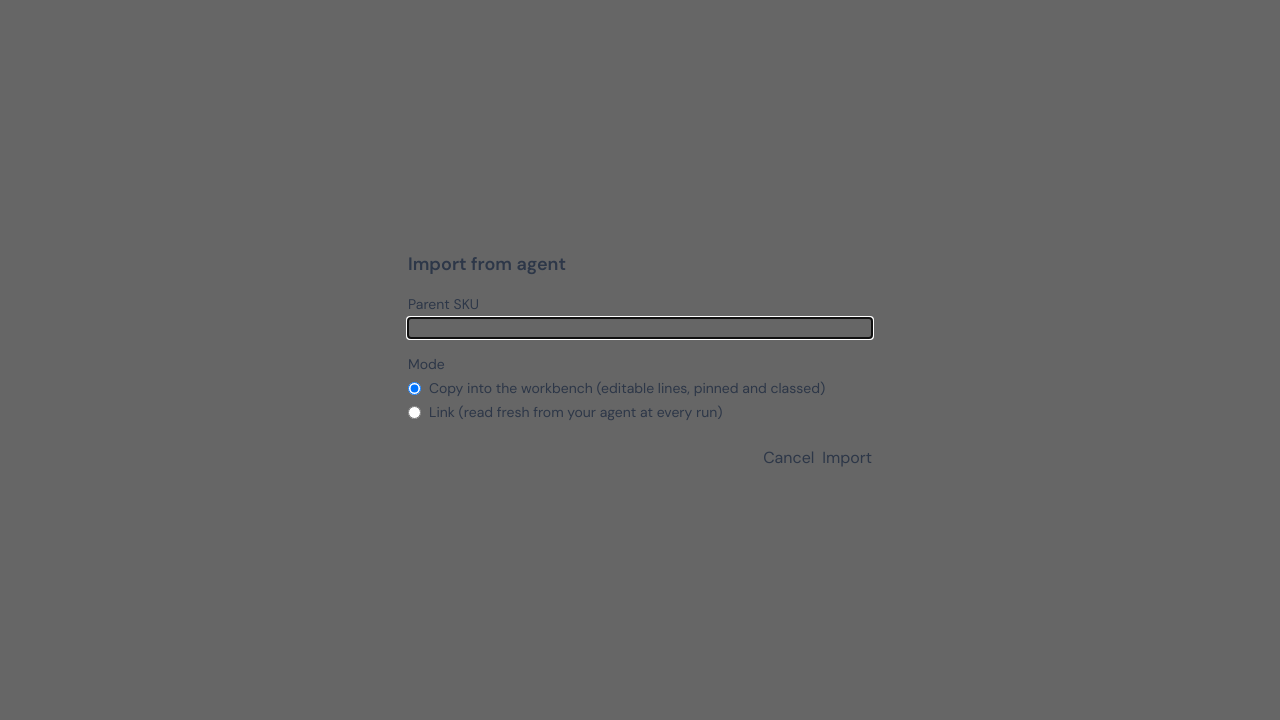
it: ImportAgentDialog › says so when the agent is unreachable, and reports nothing created (spec §7.5, §10)
Type "UNLISTED-SKU-9" into the field labelled "Parent SKU" at (640, 328), box [408,318,872,338]
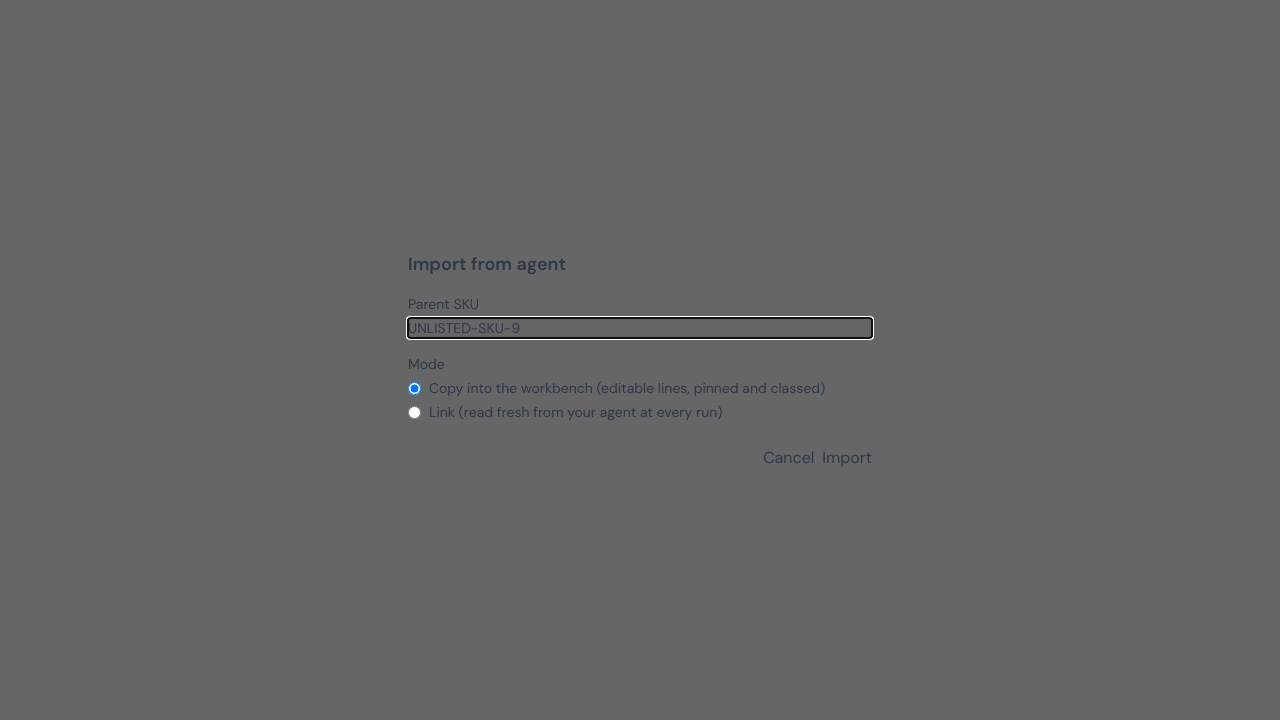
Click the radio button labelled "Link (read fresh from your agent at every run)" at (414, 412), box [408,406,421,418]
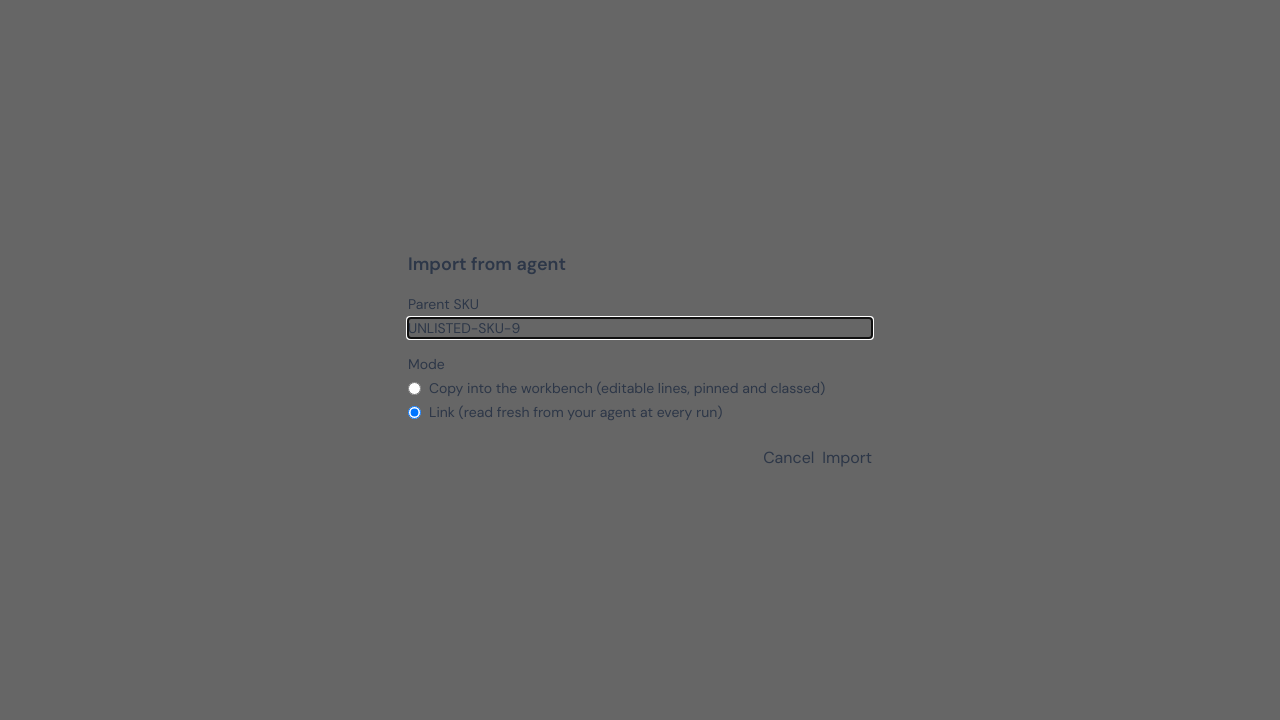
Click the button "Import" at (847, 458), box [822,446,872,470]
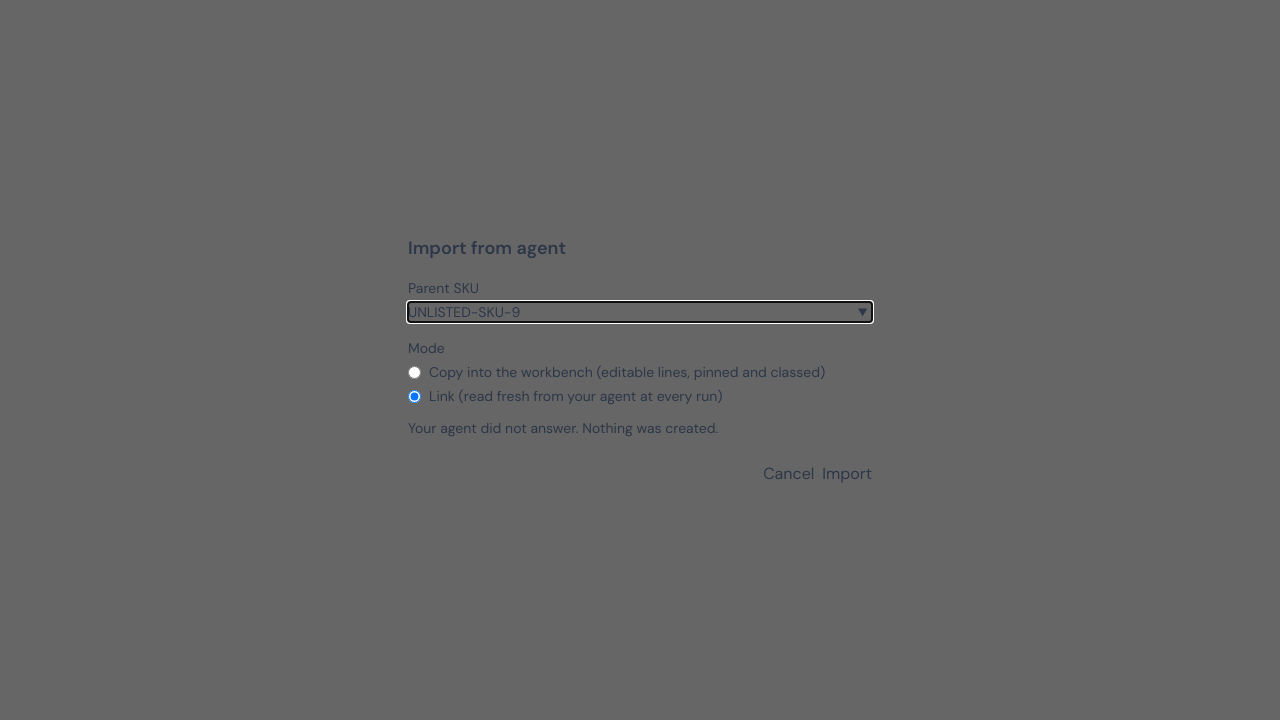
Now the message reads "Your agent did not answer. Nothing was created.", box [408,419,718,437]
